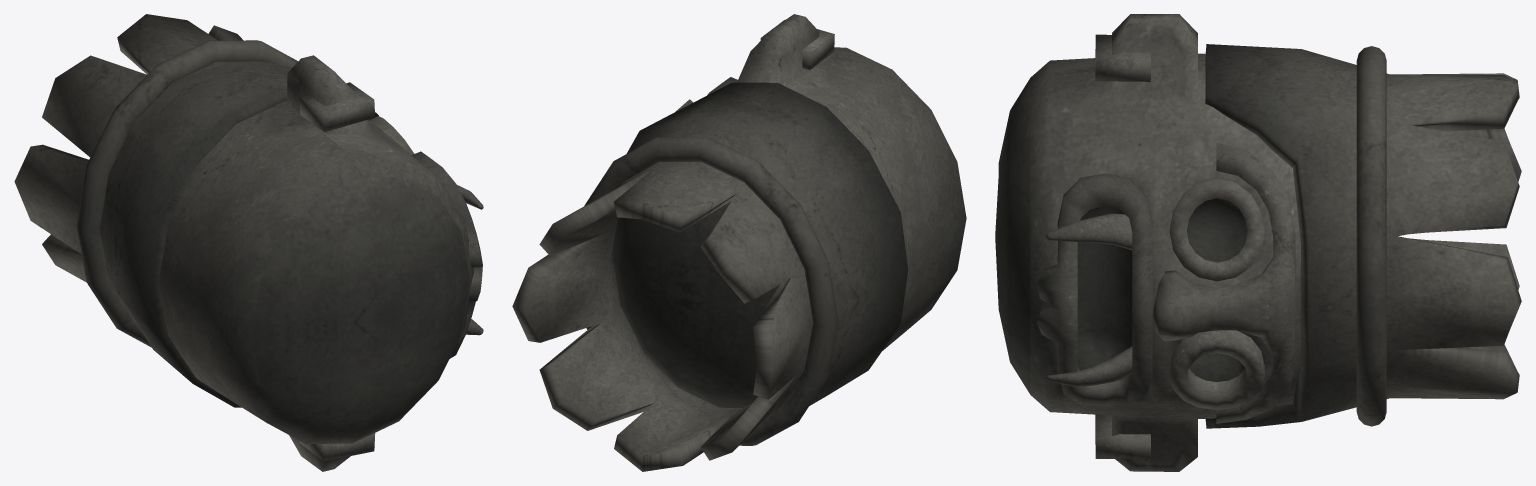
Rendered from ASSETMODEL_ESCULTURA1_R.fbx.
3 views of the same model, side by side, from view 1: azimuth 30°, elevation 25°; view 2: azimuth 150°, elevation 25°; view 3: azimuth 270°, elevation 25° (orthographic). The views are drawn at different scales.
Parts seen in each view (by area): view 1: ESCULTURA_CABEZA; view 2: ESCULTURA_CABEZA; view 3: ESCULTURA_CABEZA.
Part boxes in pixels (x1,y1,x2,y2): ESCULTURA_CABEZA: (14,14,483,471); ESCULTURA_CABEZA: (512,14,966,471); ESCULTURA_CABEZA: (995,14,1521,471).
Bounding box in the file's own units: 683 × 885 × 937.
1 material, 1 textured.
